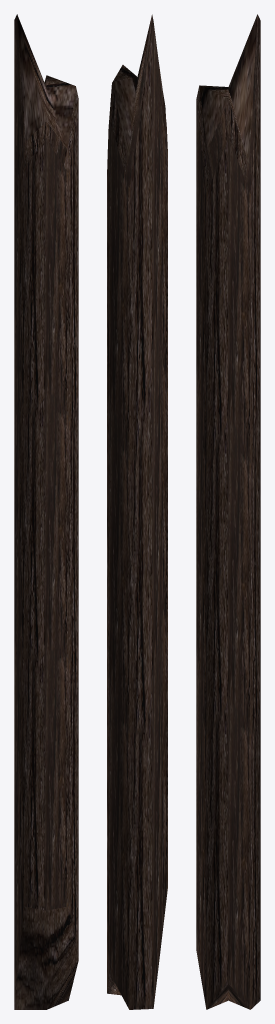
The model's file is big big wood stick.glb.
3 views of the same model, side by side, from view 1: azimuth 90°, elevation 25°; view 2: azimuth 210°, elevation 25°; view 3: azimuth 270°, elevation 25° (orthographic).
Parts seen in each view (by area): view 1: Cube; view 2: Cube; view 3: Cube.
Part boxes in pixels (x1,y1,x2,y2): Cube: (14, 14, 78, 1009); Cube: (107, 14, 167, 1009); Cube: (196, 14, 260, 1009).
Size of the model in its own units: 0.9314 by 15.83 by 0.9314.
1 material, 1 textured.
